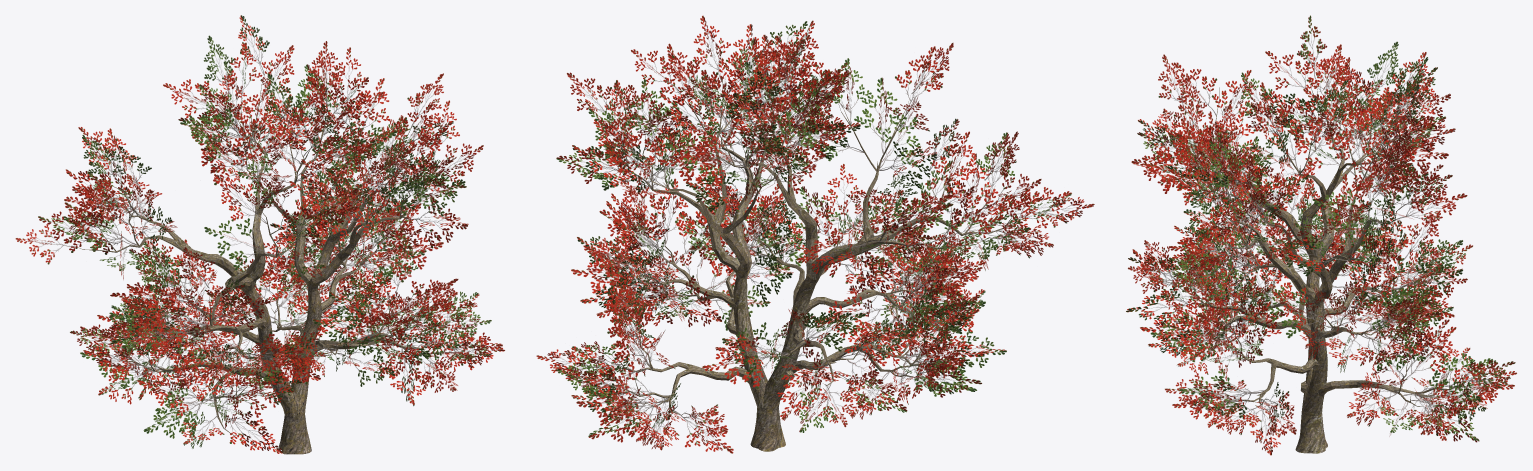
File: poinciana.glb
3 views of the same model, side by side, from view 1: azimuth 30°, elevation 25°; view 2: azimuth 150°, elevation 25°; view 3: azimuth 270°, elevation 25° (orthographic). The views are drawn at different scales.
Parts seen in each view (by area): view 1: mossybark02_0_w; view 2: mossybark02_0_w; view 3: mossybark02_0_w.
Part boxes in pixels (box(x1,y1,x2,y2)): mossybark02_0_w: box(15, 15, 504, 454); mossybark02_0_w: box(536, 15, 1094, 453); mossybark02_0_w: box(1126, 15, 1516, 455).
Size of the model in its own units: 10.14 by 8.5 by 7.89.
Materials: 3 (3 with a texture image).
